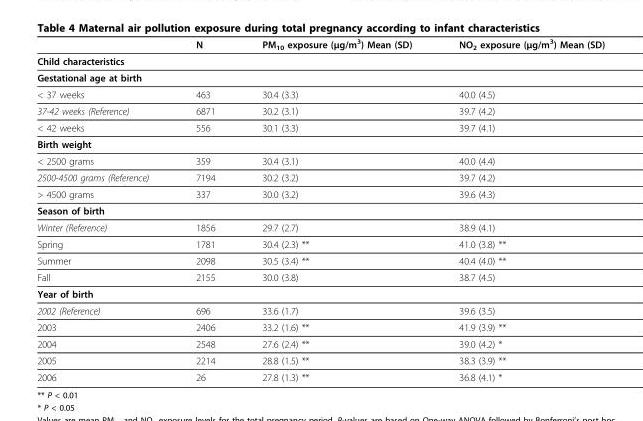table: (36, 36, 604, 382)
table column: (237, 36, 434, 382), (434, 36, 604, 382), (36, 36, 171, 382), (171, 36, 237, 382)
table column header: (36, 36, 604, 52)
table projected row header: (36, 52, 604, 69), (36, 135, 604, 152), (36, 69, 604, 85), (36, 202, 604, 218), (36, 285, 604, 301)
table row: (36, 52, 604, 69), (36, 85, 604, 102), (36, 102, 604, 119), (36, 135, 604, 152), (36, 168, 604, 185), (36, 185, 604, 202), (36, 218, 604, 235), (36, 235, 604, 252), (36, 268, 604, 285), (36, 301, 604, 318), (36, 318, 604, 335), (36, 351, 604, 368), (36, 36, 604, 52), (36, 69, 604, 85), (36, 119, 604, 135), (36, 152, 604, 168), (36, 202, 604, 218), (36, 252, 604, 268), (36, 285, 604, 301), (36, 335, 604, 351), (36, 368, 604, 382)
